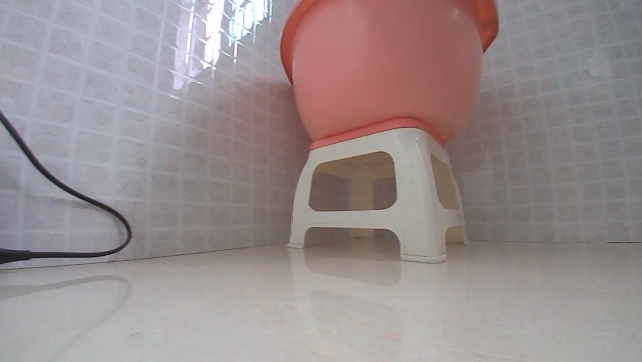wire: (0, 110, 139, 260)
